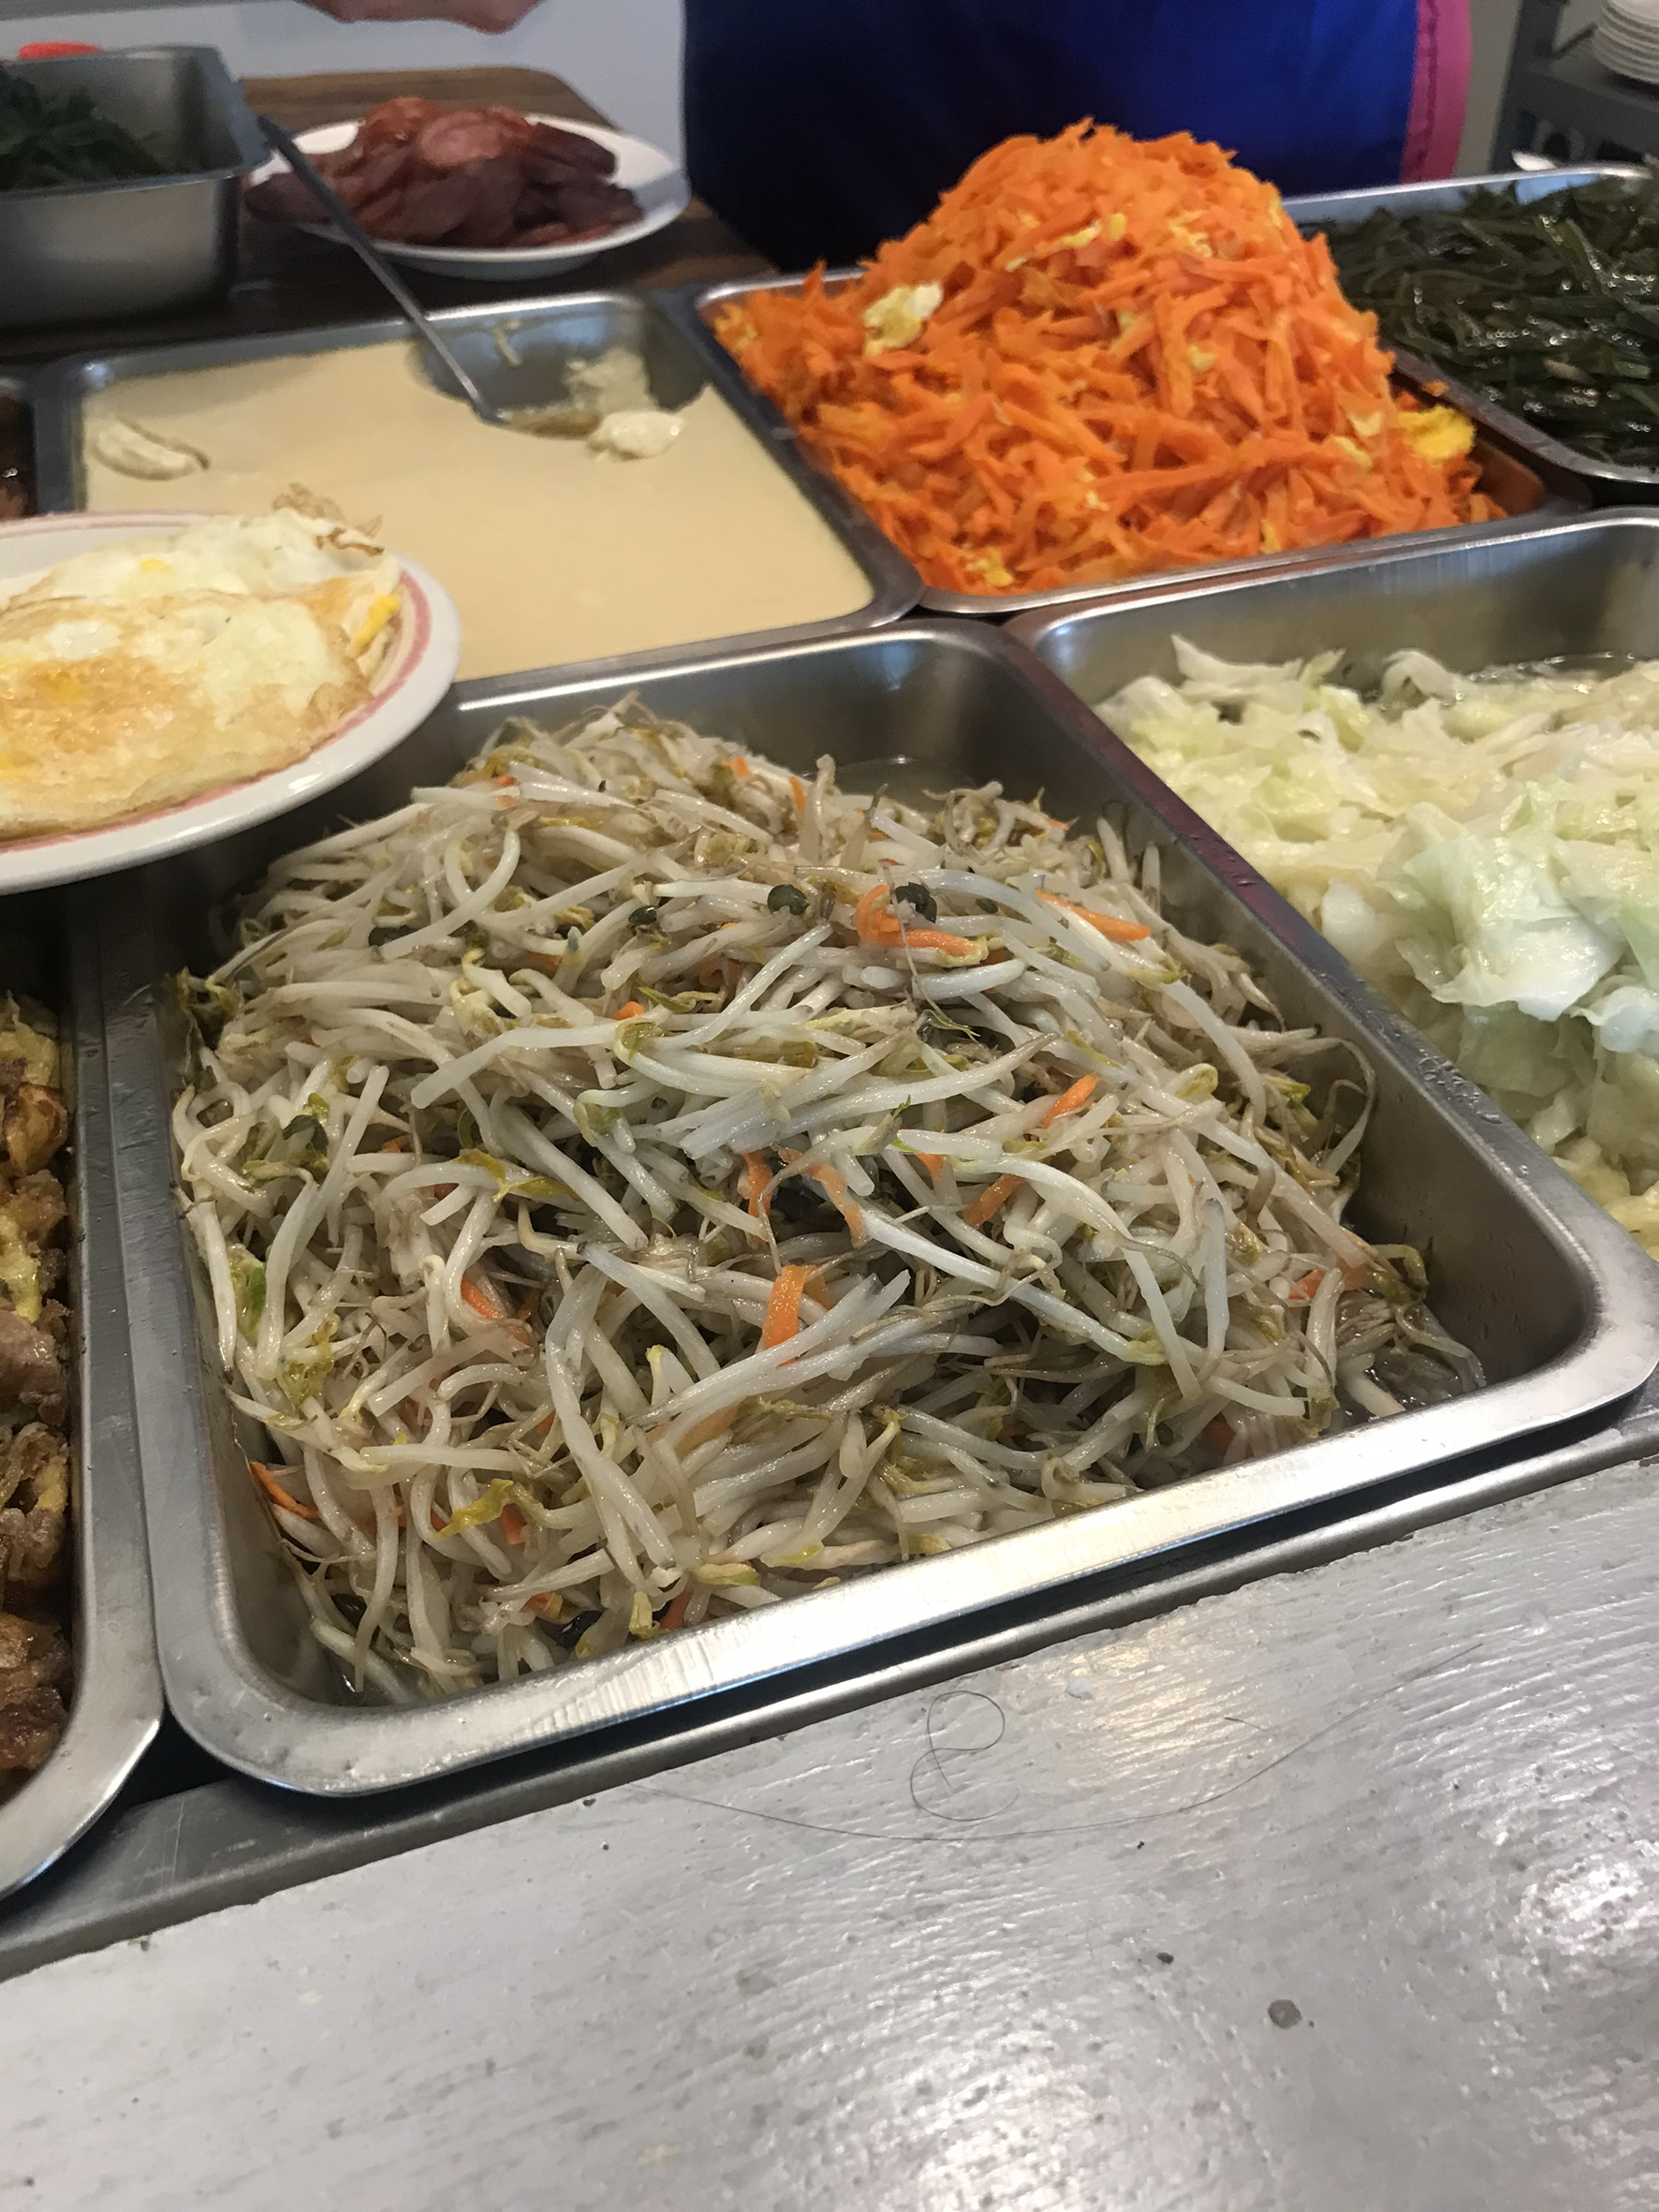carrot_eggs: (835, 162, 1406, 528)
chinese_cabbage: (1243, 668, 1659, 950)
fried_eggs: (2, 514, 420, 826)
mung_bean_sprouts: (310, 831, 1175, 1504)
